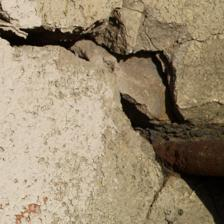Crack: (54, 0, 138, 126), (5, 79, 123, 142), (8, 78, 114, 113)
